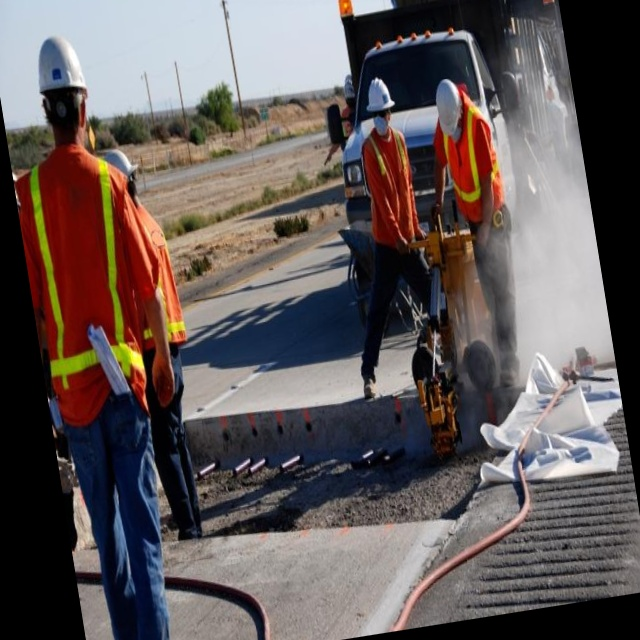Con_Casco: (32, 31, 95, 153), (431, 76, 467, 142), (363, 75, 398, 134)
Con_Chaleco: (10, 144, 161, 413), (360, 130, 425, 245)
